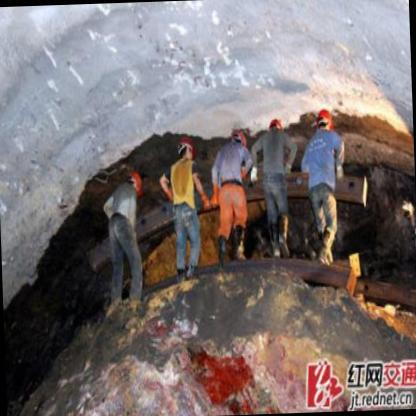bee: (314, 105, 339, 139), (228, 127, 250, 154), (176, 135, 197, 163), (128, 170, 144, 198), (266, 113, 285, 136)
